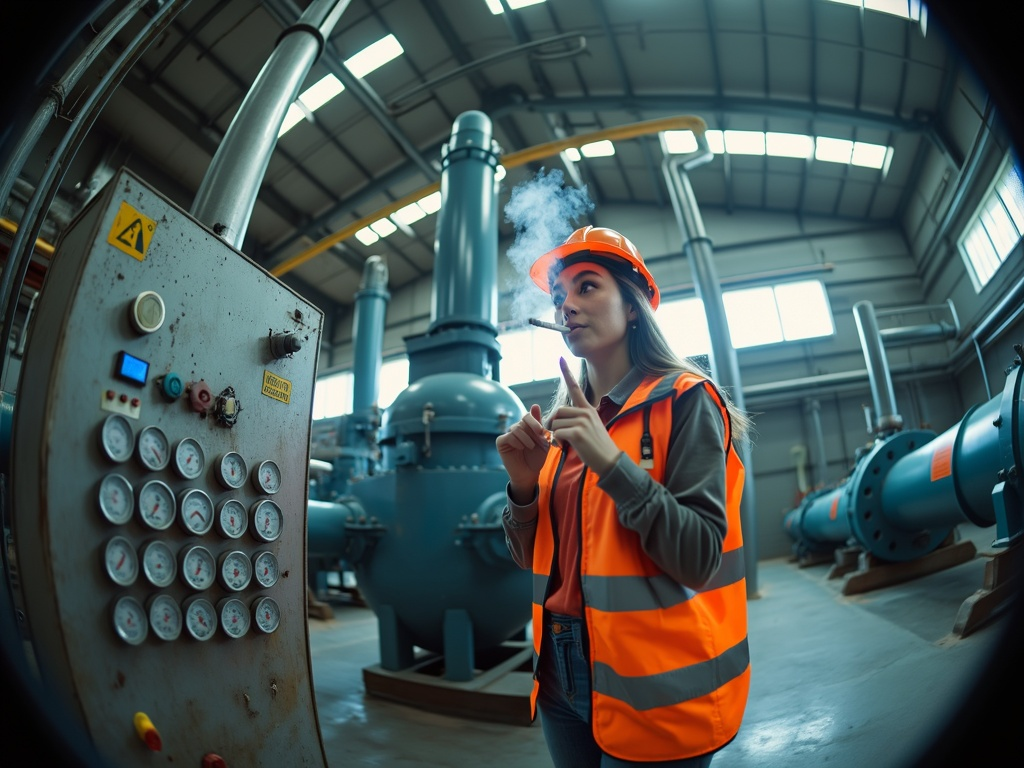smoking: (522, 303, 573, 342)
